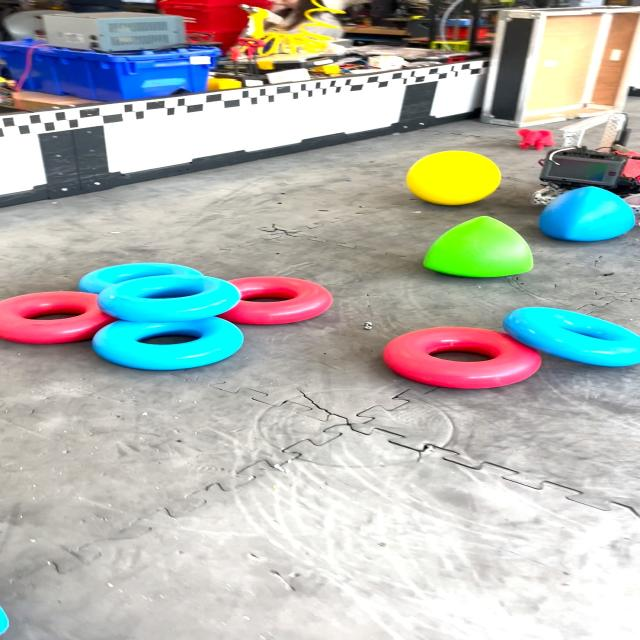Blue-Ring: (93, 316, 242, 370), (502, 308, 640, 366), (98, 274, 240, 322), (78, 262, 202, 294)
Red-Ring: (384, 326, 540, 389), (0, 291, 118, 344), (218, 276, 333, 325)
